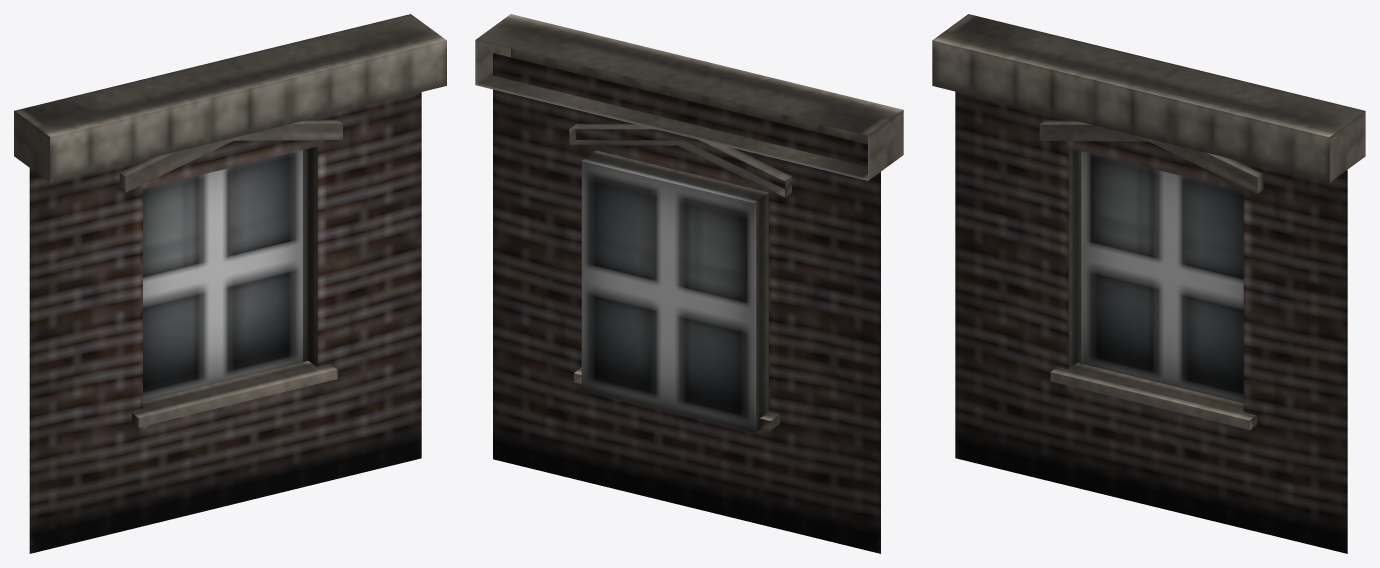
File: B8_WindowA.FBX
The picture shows the model from 3 angles, left to right: view 1: azimuth 30°, elevation 25°; view 2: azimuth 150°, elevation 25°; view 3: azimuth 330°, elevation 25°; orthographic projection.
Visible parts, largest first — view 1: B8_WindowA; view 2: B8_WindowA; view 3: B8_WindowA.
Part boxes in pixels (x1=…): B8_WindowA: x1=14, y1=14, x2=446, y2=553; B8_WindowA: x1=475, y1=14, x2=903, y2=553; B8_WindowA: x1=932, y1=14, x2=1365, y2=553.
Size of the model in its own units: 4.05 by 4.22 by 0.6404.
